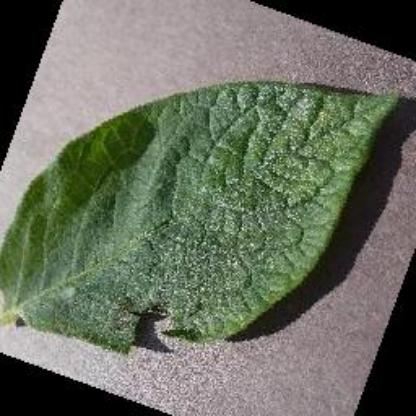Healthy-plant: (0, 78, 402, 352)
